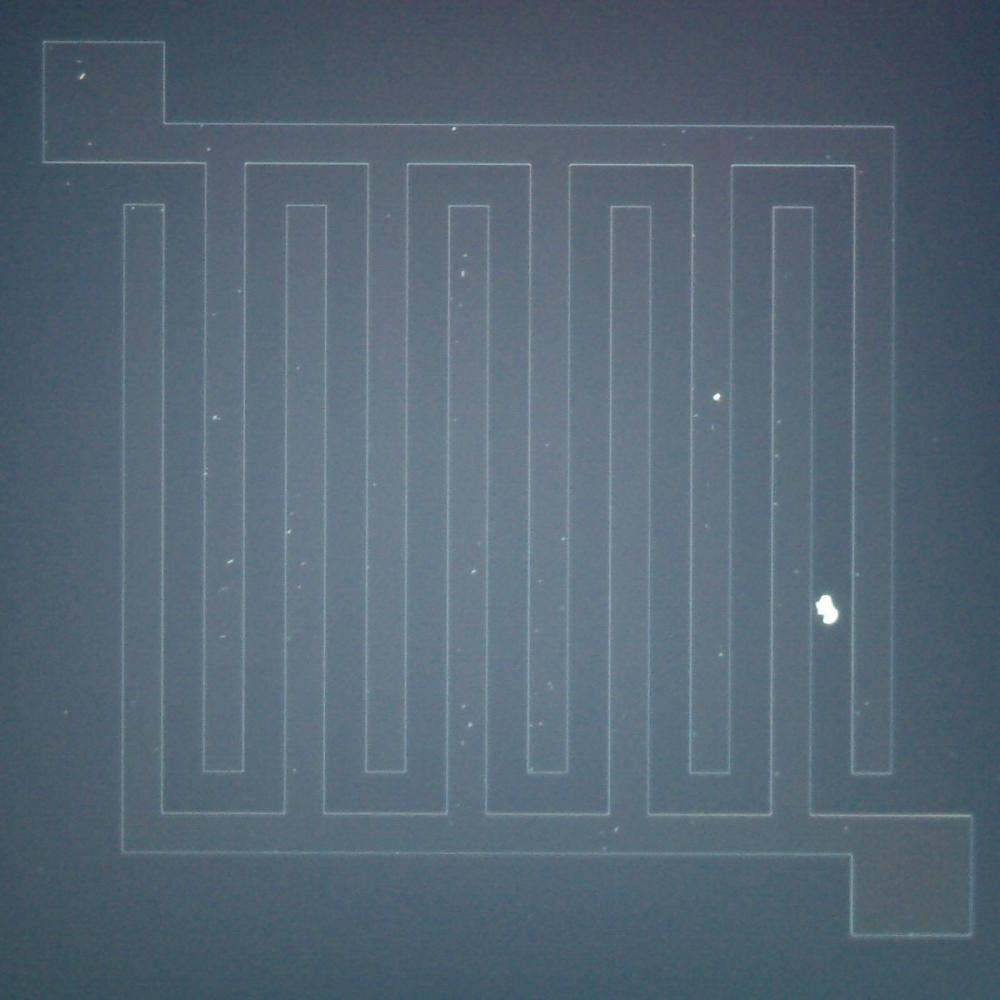Bdot: (812, 595, 841, 623)
dot: (713, 393, 720, 401), (79, 73, 86, 80), (460, 271, 466, 277), (228, 559, 234, 565), (561, 536, 566, 541), (471, 569, 476, 574), (467, 722, 472, 727), (452, 127, 456, 131), (207, 148, 211, 152), (212, 416, 216, 420), (288, 530, 292, 534)
